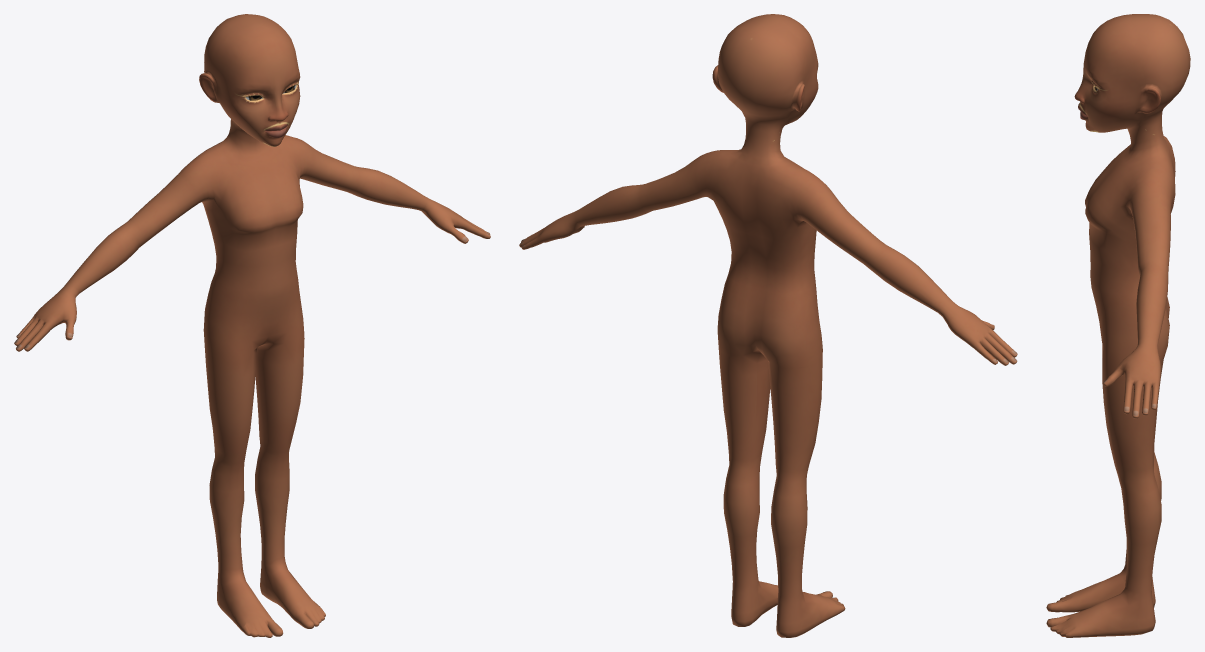
Rendered from frame_0061.glb.
The picture shows the model from 3 angles, left to right: view 1: azimuth 30°, elevation 25°; view 2: azimuth 150°, elevation 25°; view 3: azimuth 270°, elevation 25°; orthographic projection. The views are drawn at different scales.
Parts seen in each view (by area): view 1: frame_0061_head_geo; view 2: frame_0061_head_geo; view 3: frame_0061_head_geo.
Boxes of the visible parts, x1=… form: frame_0061_head_geo: x1=14, y1=14, x2=490, y2=637; frame_0061_head_geo: x1=519, y1=14, x2=1017, y2=637; frame_0061_head_geo: x1=1046, y1=14, x2=1190, y2=637.
Bounding box in the file's own units: 1.28 × 1.5 × 0.3253.
Materials: 3 (3 with a texture image).
